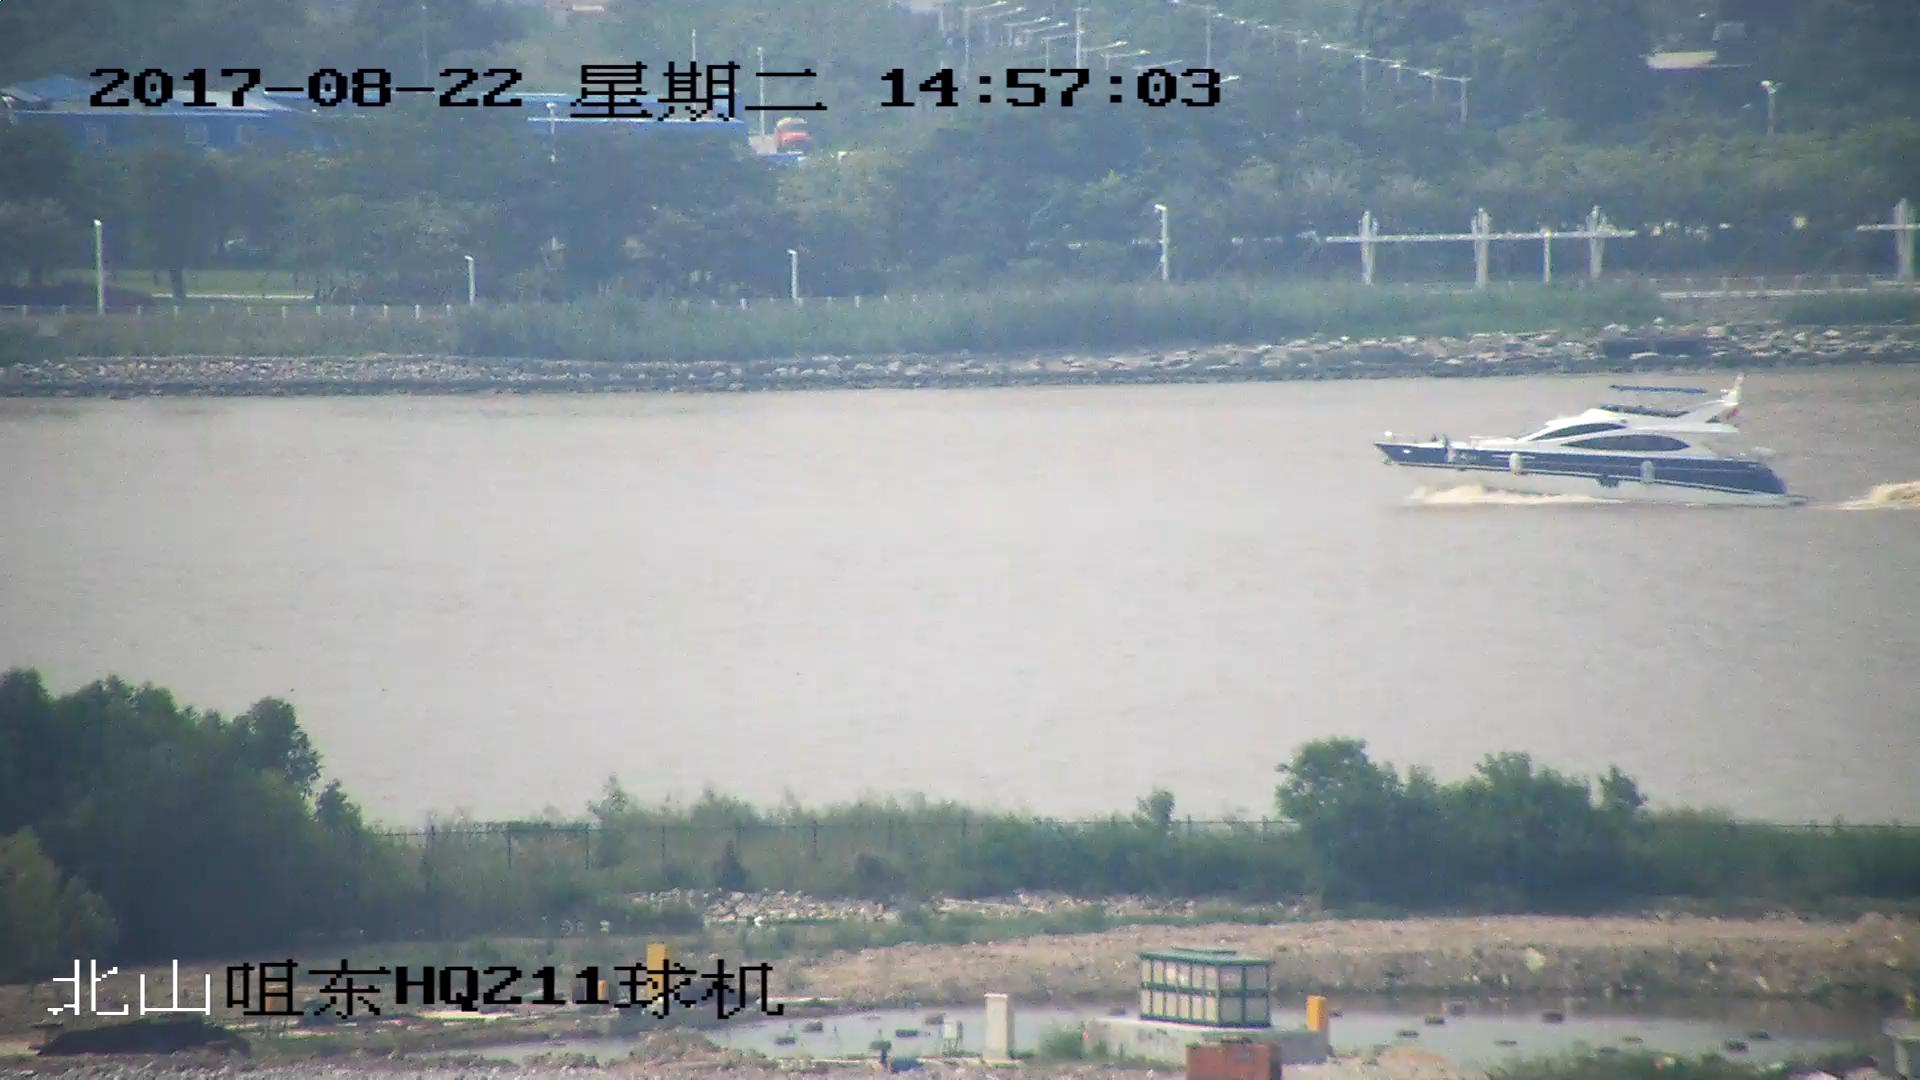passenger ship: (1374, 379, 1808, 513)
